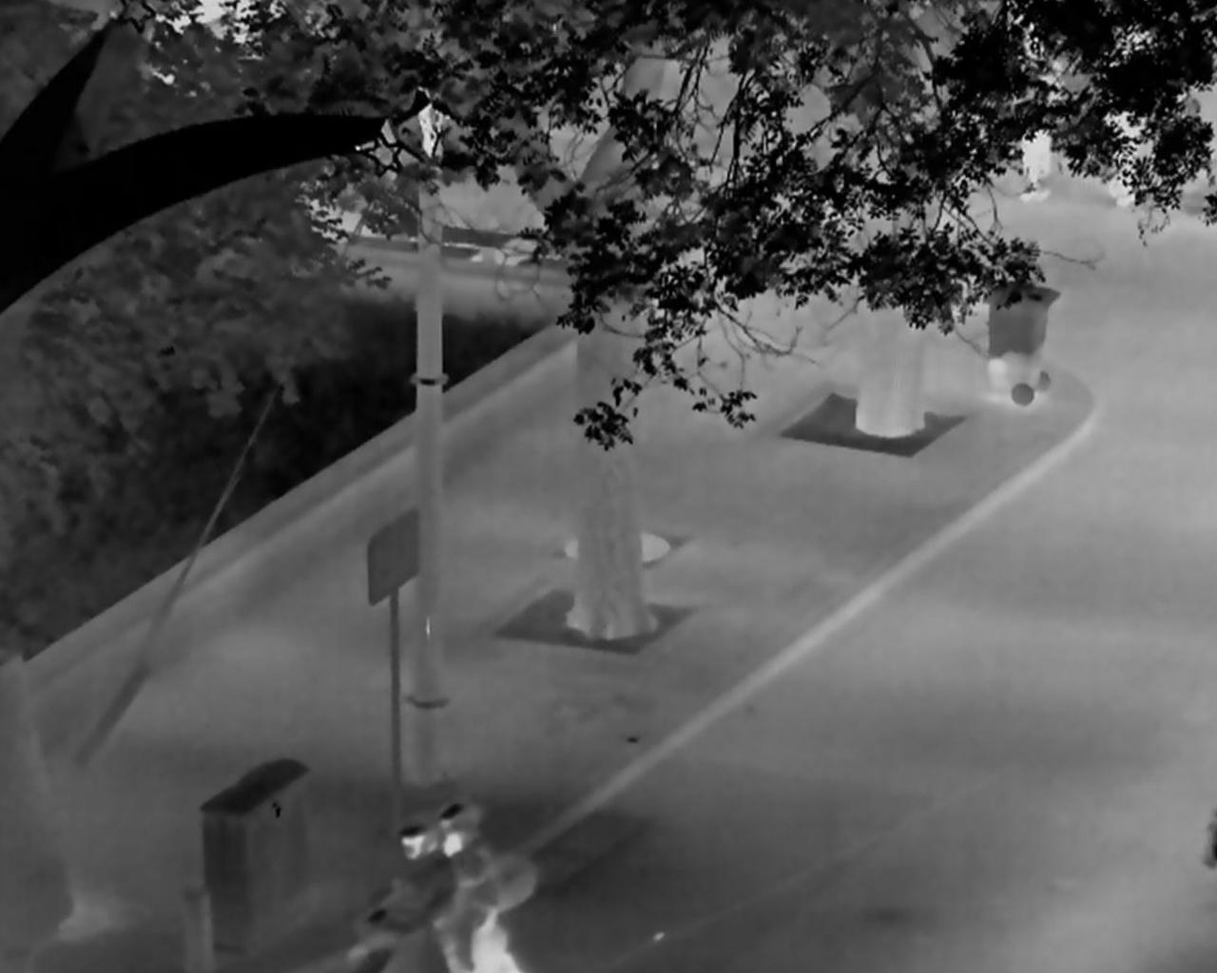person: (361, 812, 448, 973), (432, 793, 504, 973)
